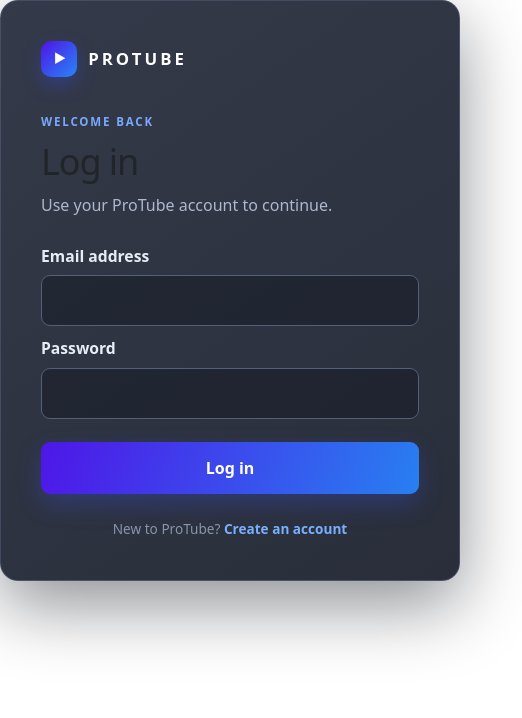
Scenario: LoginForm › shows a fallback for an Axios error without a server message
Type "user@example.com" into the field labelled "Email address".
click(230, 301); type("user@example.com")  # box [41,275,419,326]
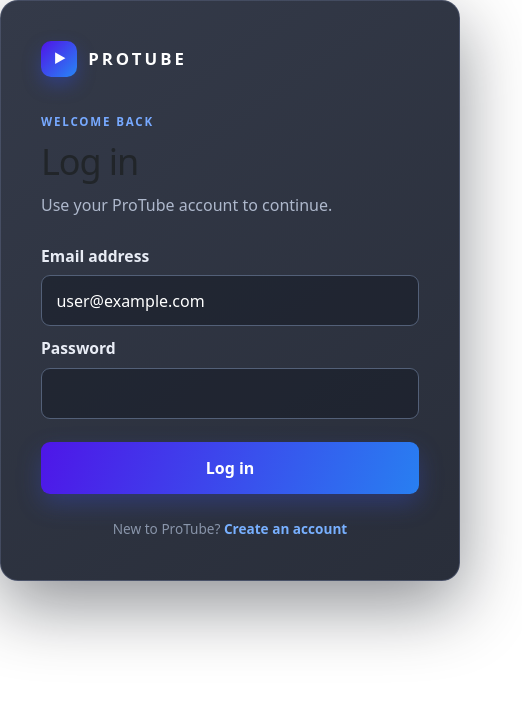
Type "wrongpass" into the password field labelled "Password".
click(230, 394); type("wrongpass")  # box [41,368,419,419]
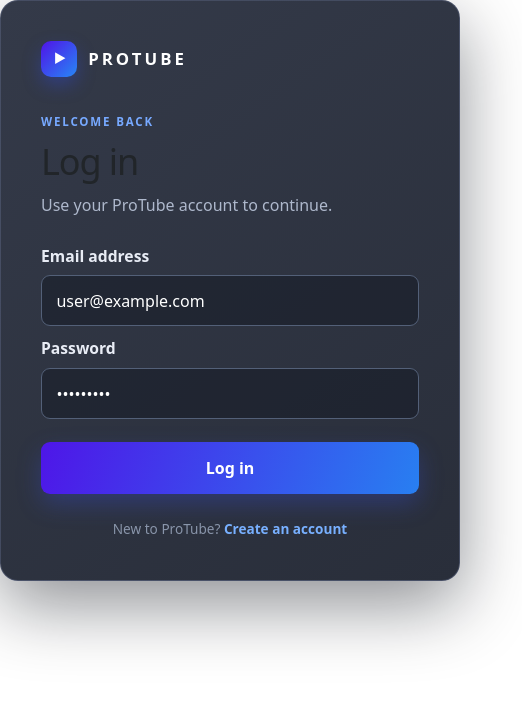
Click the button "Log in".
click(230, 468)  # box [41,442,419,494]
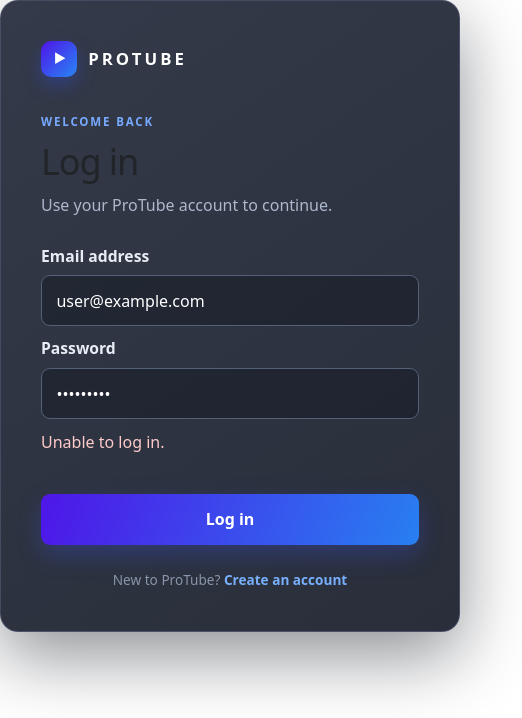
Check: the text "Unable to log in." is shown, box [41,431,164,453]
